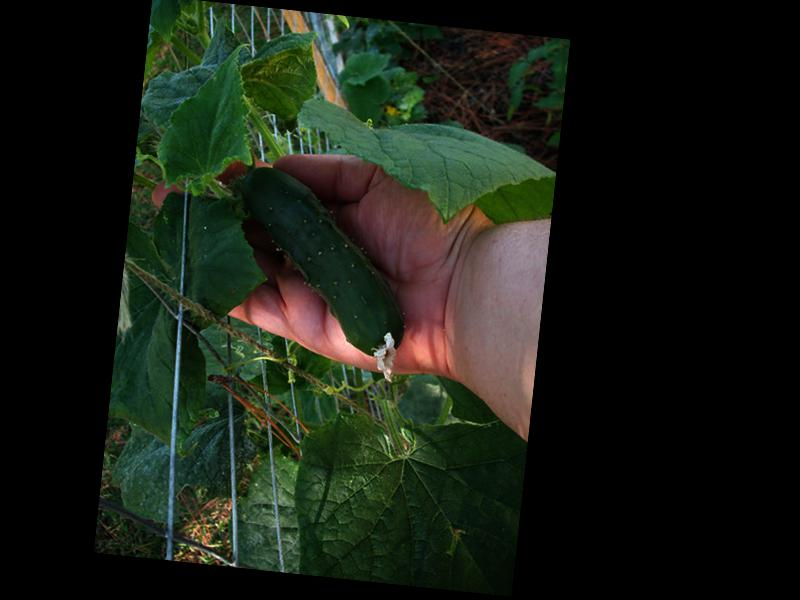Cucumber: (223, 166, 418, 384)
